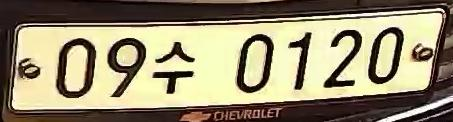0: (53, 34, 99, 102), (233, 32, 278, 97), (364, 20, 407, 87)
1: (284, 29, 318, 92)
2: (321, 28, 365, 88)
9: (105, 35, 148, 100)
수: (151, 38, 199, 97)
